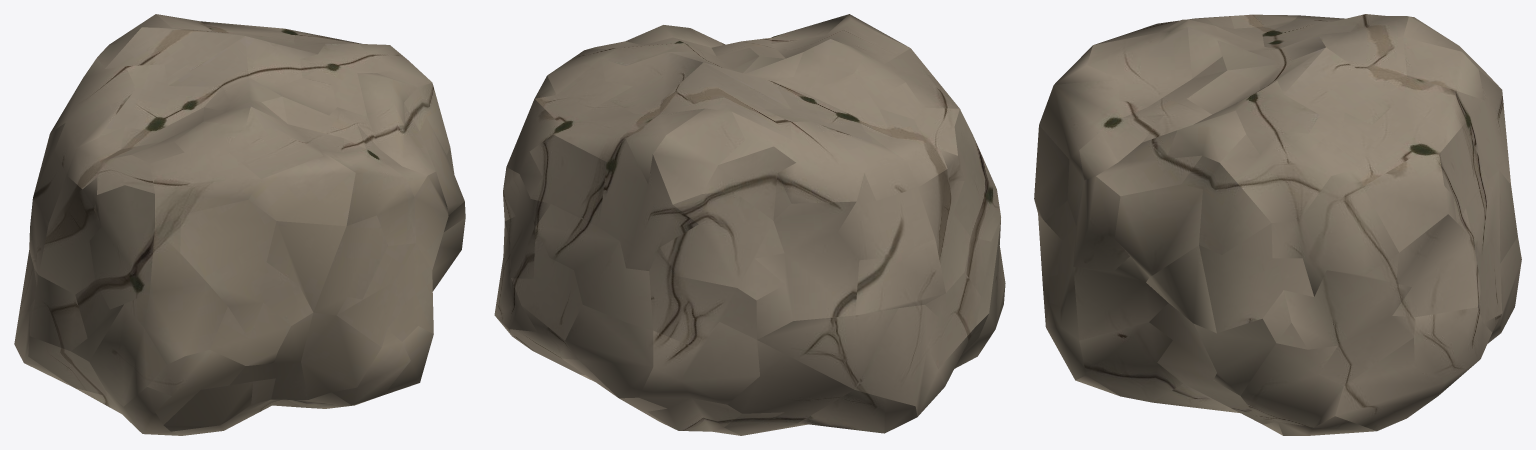
Rendered from RockSmall.glb.
3 views of the same model, side by side, from view 1: azimuth 30°, elevation 25°; view 2: azimuth 150°, elevation 25°; view 3: azimuth 270°, elevation 25° (orthographic). The views are drawn at different scales.
Size of the model in its own units: 0.5973 by 0.45 by 0.5809.
1 material, 1 textured.
